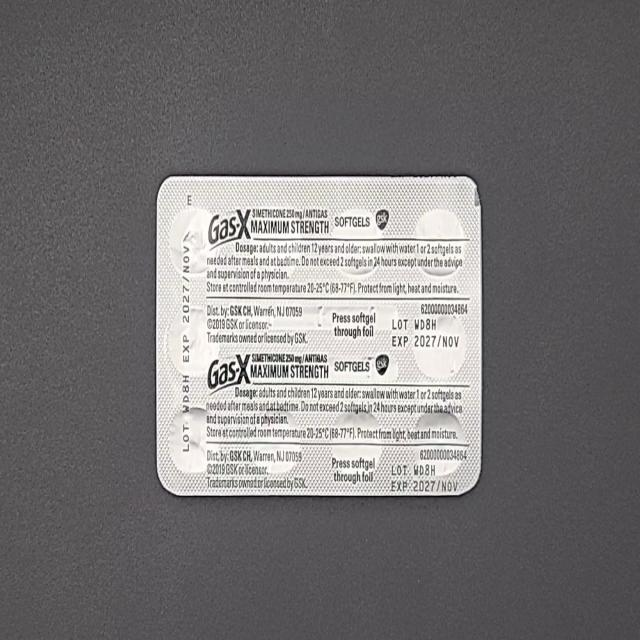no defect: (7, 15, 31, 56)
